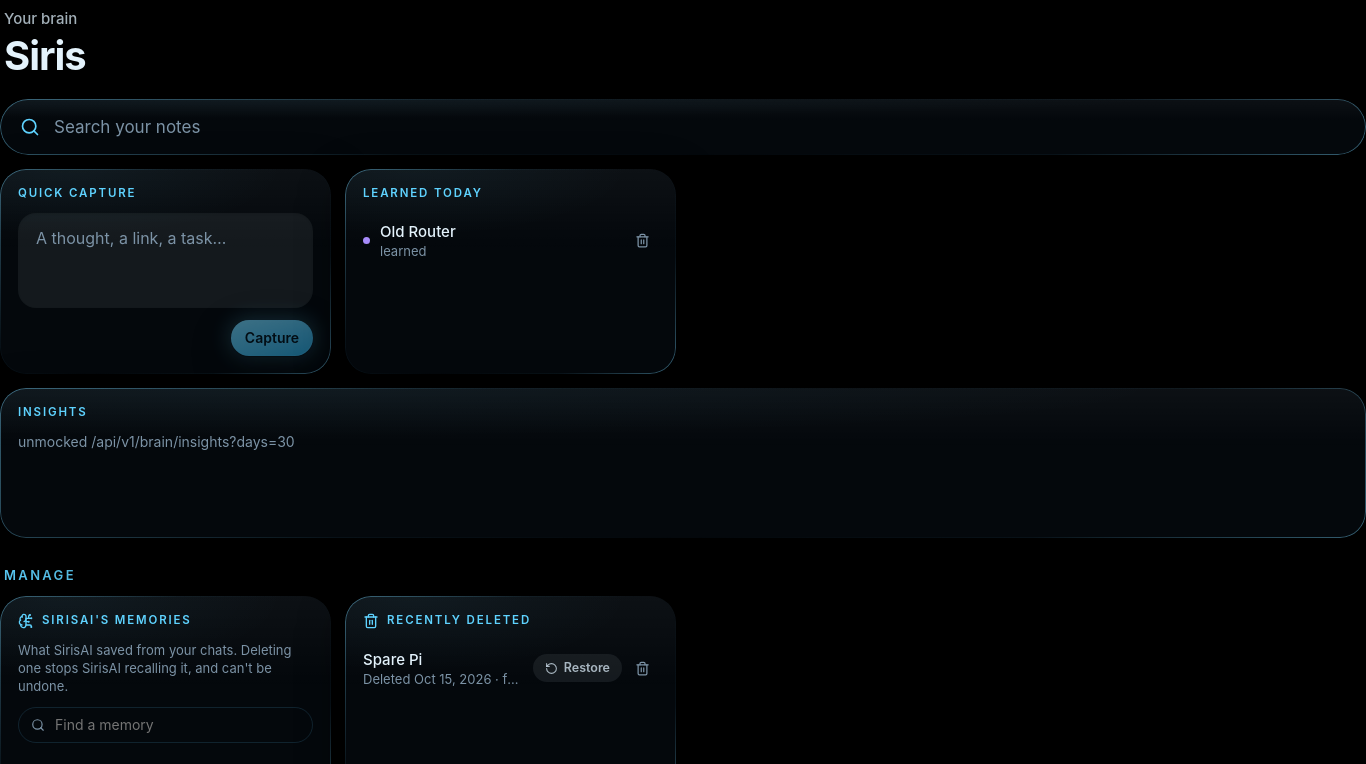
Test: Deleting from Siris › deletes a note forever from Recently deleted, after a second tap
Click the button named "Delete Spare Pi forever": (642, 668) x1=626 y1=652 x2=658 y2=684
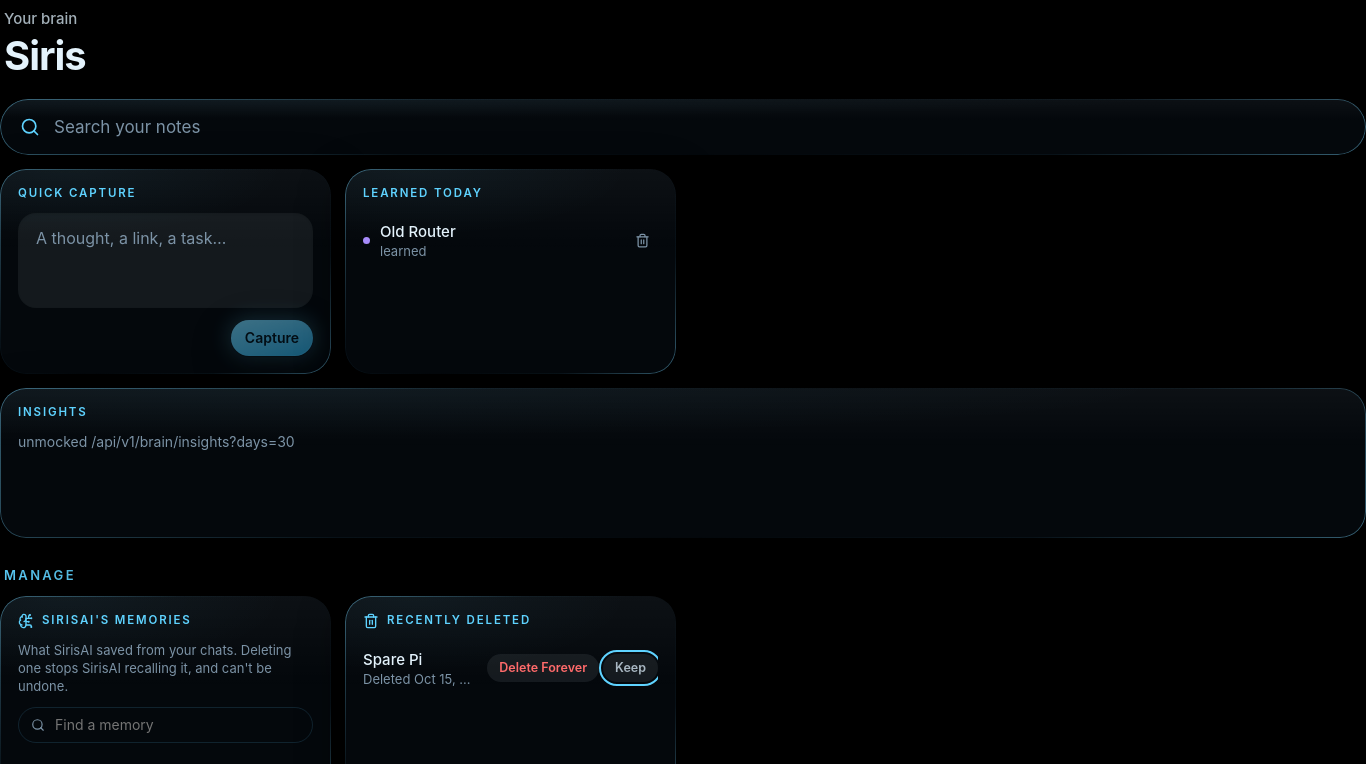
Click the button "Delete forever": (543, 668) x1=487 y1=654 x2=599 y2=682
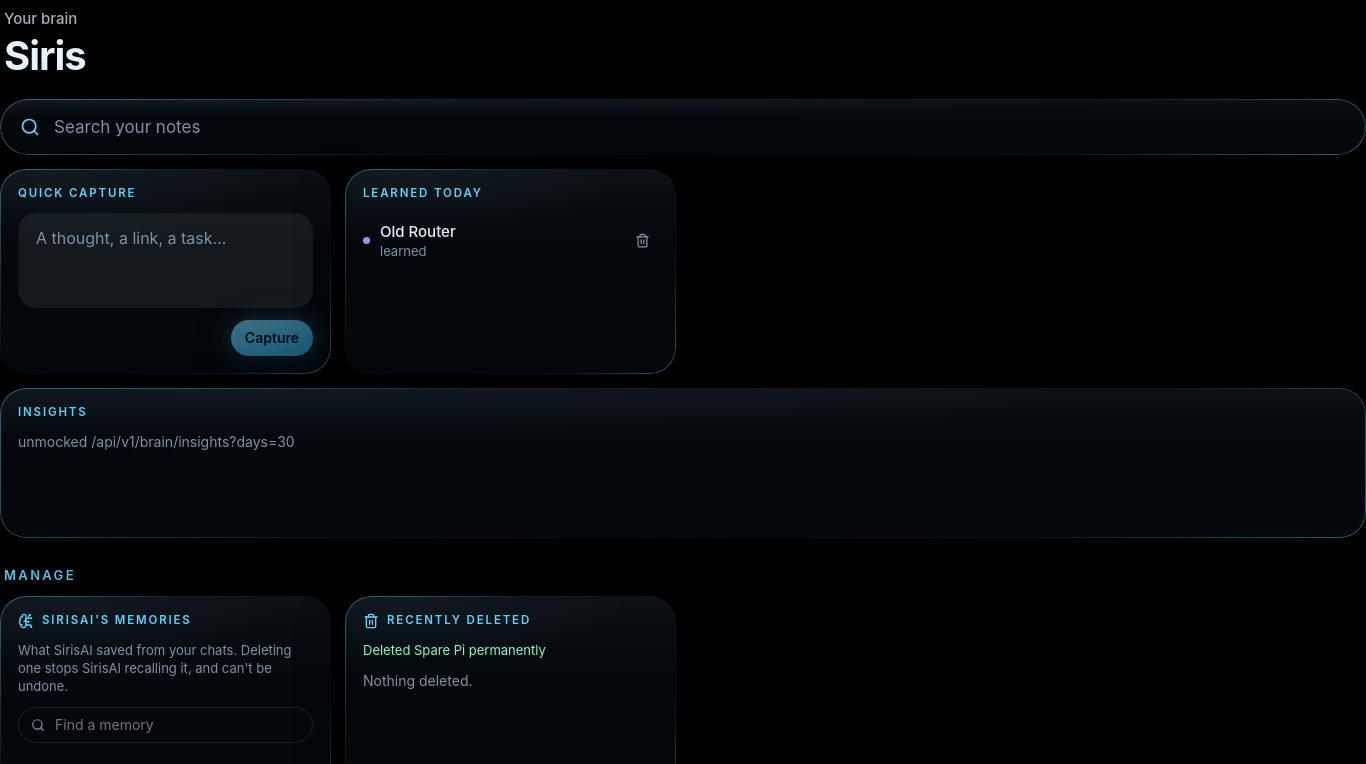
Expected: the text "Deleted Spare Pi permanently" is shown, x1=363 y1=642 x2=546 y2=658
